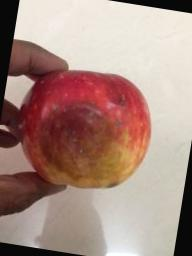Apple Overripe: (8, 42, 174, 211)
